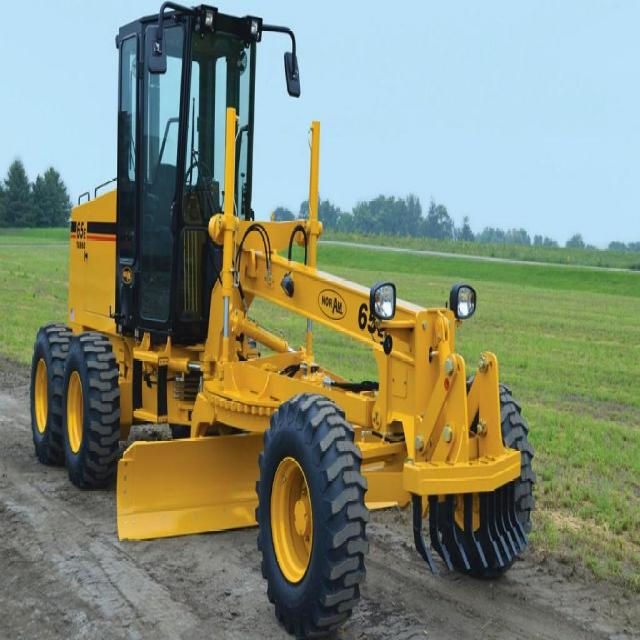Grader: (24, 0, 534, 632)
